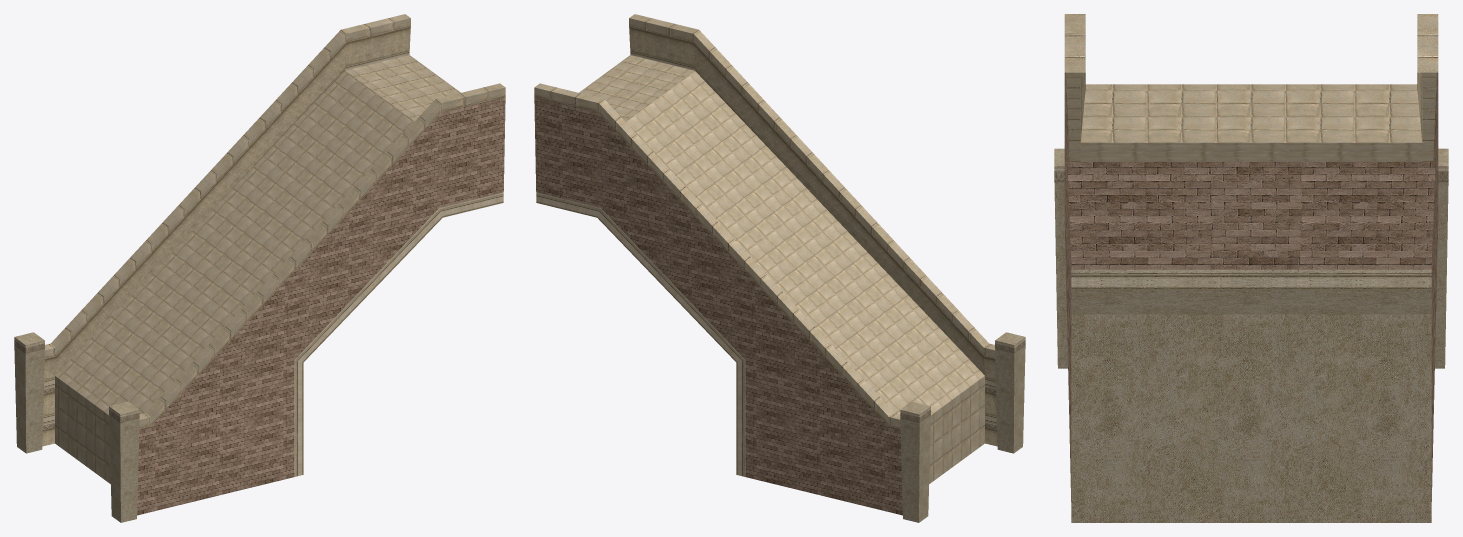
Rendered from thm_nboo_imprv_bridge_stairs_s01_l1.fbx.
3 renders of one model, left to right at view 1: azimuth 30°, elevation 25°; view 2: azimuth 150°, elevation 25°; view 3: azimuth 270°, elevation 25°, orthographic. The views are drawn at different scales.
Visible parts, largest first — view 1: mesh_node; view 2: mesh_node; view 3: mesh_node.
Boxes of the visible parts, x1,y1,x2,y2 form: mesh_node: (14, 14, 505, 522); mesh_node: (534, 14, 1025, 522); mesh_node: (1054, 14, 1448, 522).
Bounding box in the file's own units: 12.04 × 10.08 × 5.69.
4 materials, 4 textured.
